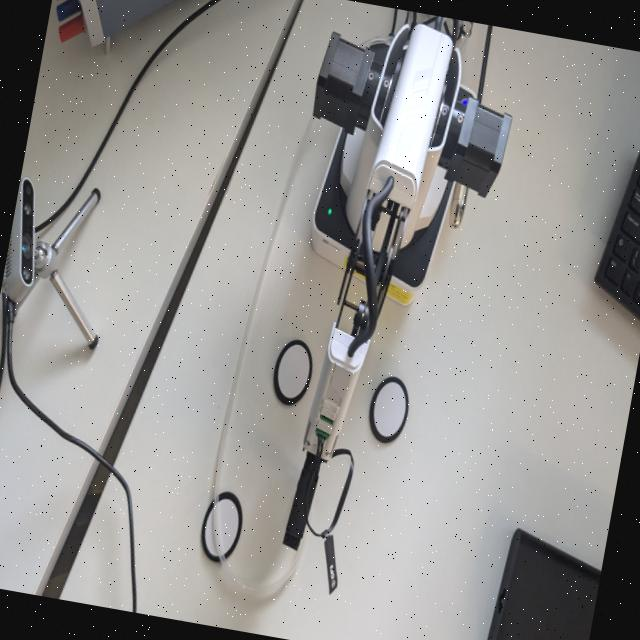Robot-end-effector-HF8z: (278, 456, 323, 562)
